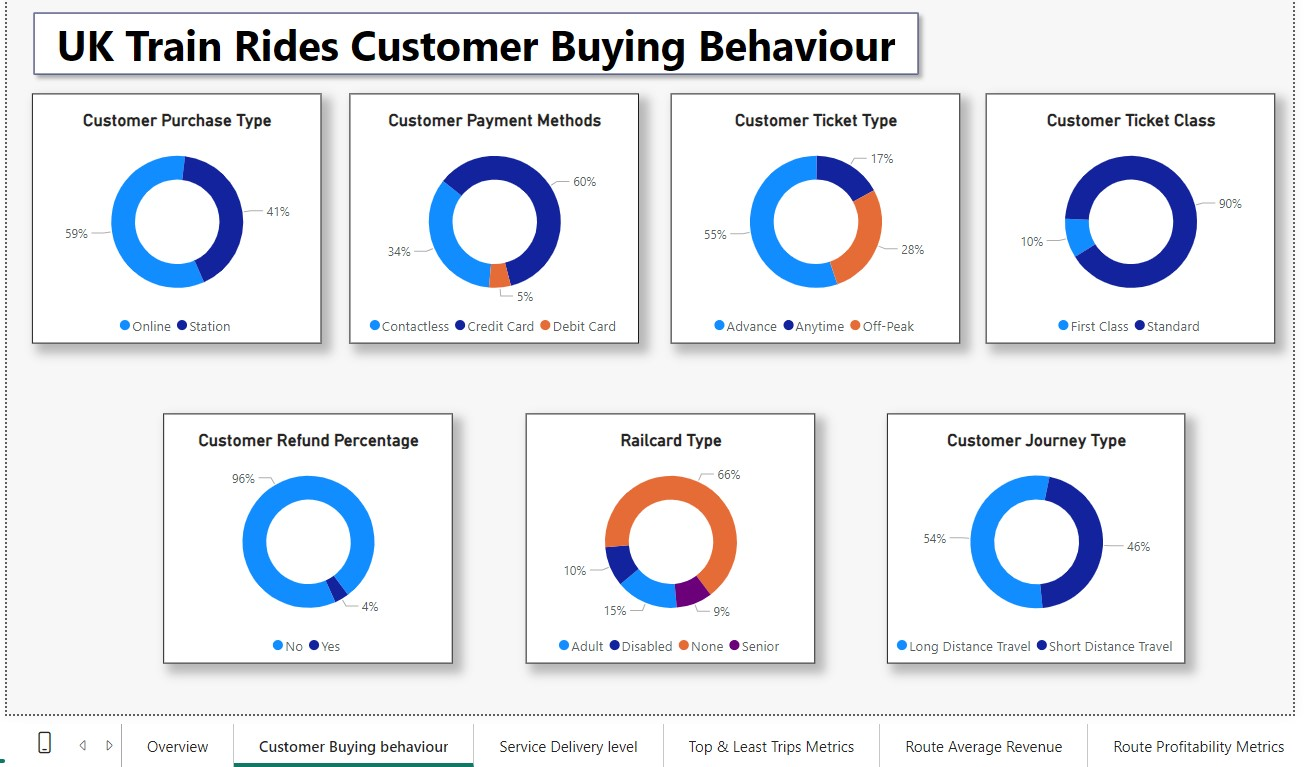

This screenshot's page, from the dashboard's own definition file:
{"tool":"powerbi","page":{"name":"Customer Buying behaviour","canvas":[1280,720],"ordinal":1},"visuals":[{"type":"donutChart","title":"Customer Purchase Type","fields":{"Y":["CountNonNull(railway_clean_data.Transaction ID)"],"Series":["railway_clean_data.Purchase Type"]},"box":[25.3,102.1,287.9,249],"z":0},{"type":"donutChart","title":"Customer Payment Methods","fields":{"Y":["CountNonNull(railway_clean_data.Transaction ID)"],"Series":["railway_clean_data.Payment Method"]},"box":[341.4,102.1,287.9,249],"z":1000},{"type":"donutChart","title":"Customer Ticket Type","fields":{"Y":["CountNonNull(railway_clean_data.Transaction ID)"],"Series":["railway_clean_data.Ticket Type"]},"box":[660.4,102.1,287.9,249],"z":2000},{"type":"donutChart","title":"Customer Ticket Class","fields":{"Y":["CountNonNull(railway_clean_data.Transaction ID)"],"Series":["railway_clean_data.Ticket Class"]},"box":[973.6,102.1,287.9,249],"z":3000},{"type":"donutChart","title":"Customer Refund Percentage","fields":{"Y":["CountNonNull(railway_clean_data.Transaction ID)"],"Series":["railway_clean_data.Refund Request"]},"box":[155.6,420.2,287.9,249],"z":4000},{"type":"donutChart","title":"Railcard Type","fields":{"Y":["CountNonNull(railway_clean_data.Transaction ID)"],"Series":["railway_clean_data.Railcard"]},"box":[516.5,420.2,287.9,249],"z":5000},{"type":"donutChart","title":"Customer Journey Type","fields":{"Y":["CountNonNull(railway_clean_data.Transaction ID)"],"Series":["railway_clean_data.Journey Type"]},"box":[876.4,420.2,296.7,249],"z":6000},{"type":"shape","box":[17.5,12.6,898.7,79.8],"z":7000}]}

Visuals, with their boxes in screenshot pixels (x1, y1, x2, y2):
"Customer Purchase Type" donutChart: locate(29, 89, 319, 340)
"Customer Payment Methods" donutChart: locate(347, 89, 638, 340)
"Customer Ticket Type" donutChart: locate(669, 89, 959, 340)
"Customer Ticket Class" donutChart: locate(985, 89, 1275, 340)
"Customer Refund Percentage" donutChart: locate(160, 410, 450, 661)
"Railcard Type" donutChart: locate(524, 410, 814, 661)
"Customer Journey Type" donutChart: locate(887, 410, 1186, 661)
shape: locate(21, 0, 927, 79)
